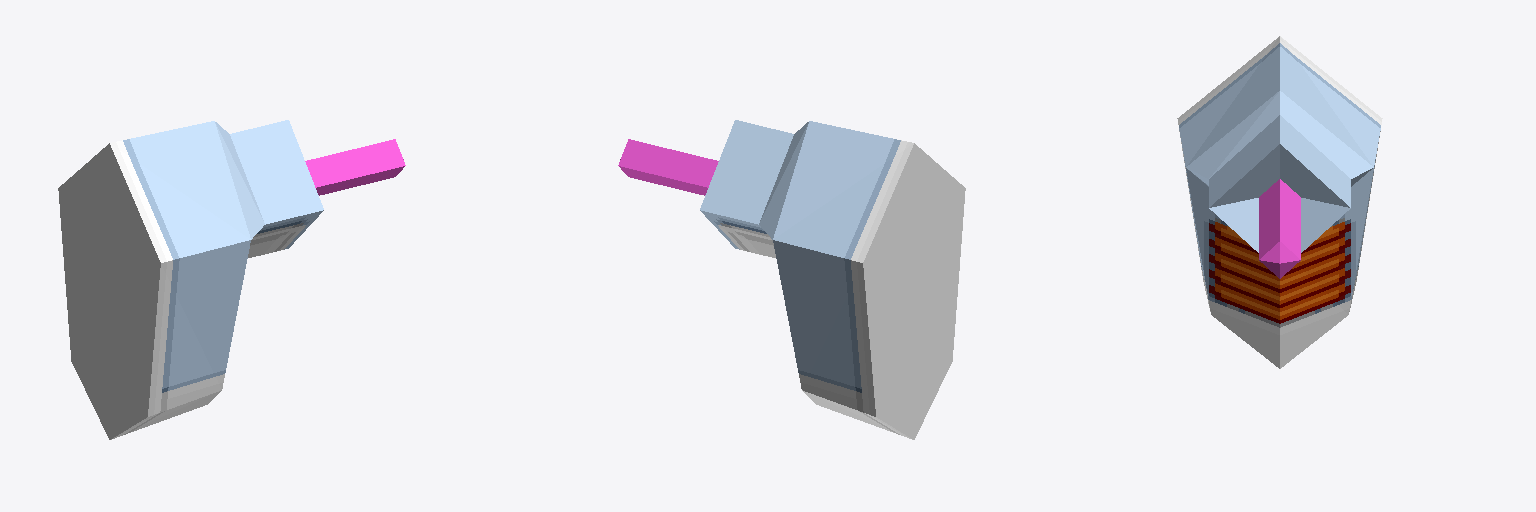
3 views of the same model, side by side, from view 1: azimuth 30°, elevation 25°; view 2: azimuth 150°, elevation 25°; view 3: azimuth 270°, elevation 25° (orthographic).
Visible parts, largest first — view 1: All; view 2: All; view 3: All.
Part boxes in pixels (bbox=[...]): All: bbox=[58, 120, 405, 439]; All: bbox=[618, 120, 965, 439]; All: bbox=[1177, 36, 1382, 368].
Bounding box in the file's own units: 8.52 × 8.26 × 5.17.
Materials: 2 (2 with a texture image).